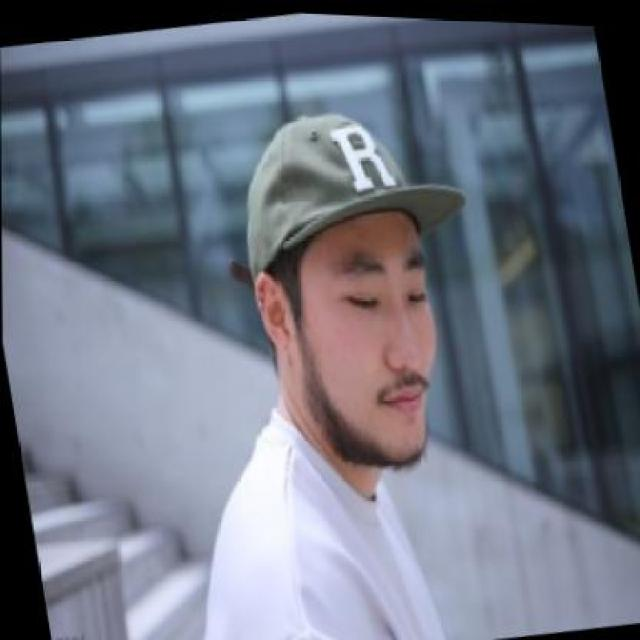hat: (211, 88, 475, 284)
